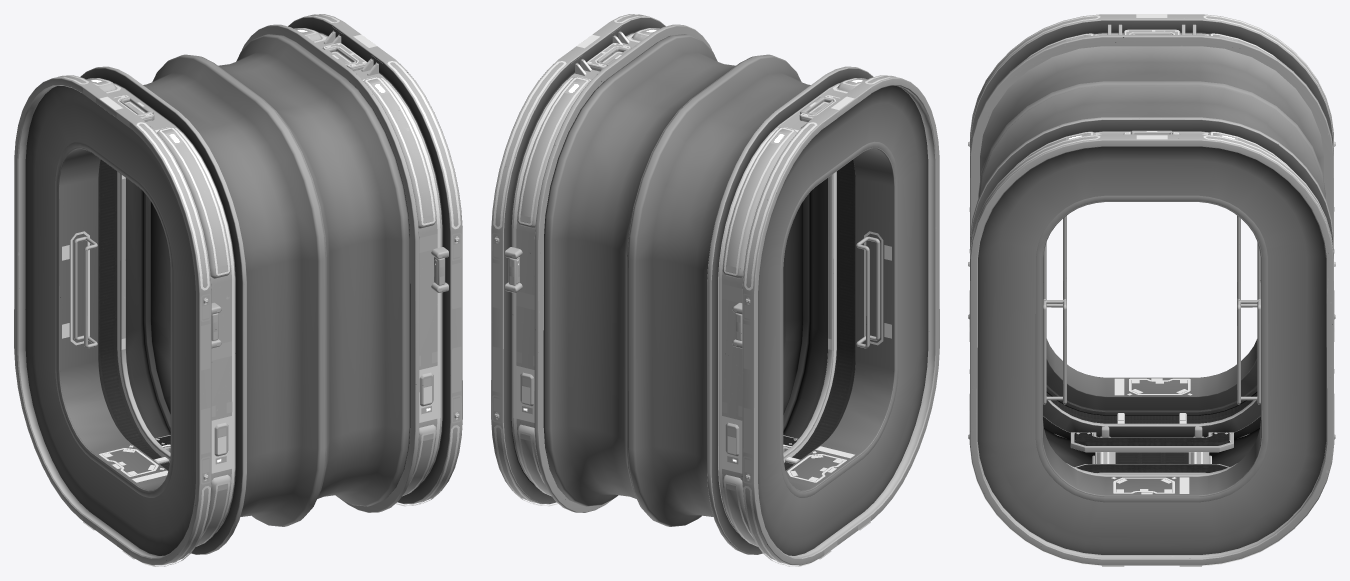
The model's file is SM_Modular_BridgeConnector_3_Merged.fbx.
3 views of the same model, side by side, from view 1: azimuth 30°, elevation 25°; view 2: azimuth 150°, elevation 25°; view 3: azimuth 270°, elevation 25° (orthographic). The views are drawn at different scales.
Visible parts, largest first — view 1: SM_Modular_BridgeConnector_3_Merged_LOD0; view 2: SM_Modular_BridgeConnector_3_Merged_LOD0; view 3: SM_Modular_BridgeConnector_3_Merged_LOD0.
Boxes of the visible parts, bbox=[...] form: SM_Modular_BridgeConnector_3_Merged_LOD0: bbox=[14, 14, 462, 566]; SM_Modular_BridgeConnector_3_Merged_LOD0: bbox=[491, 14, 939, 566]; SM_Modular_BridgeConnector_3_Merged_LOD0: bbox=[968, 14, 1335, 566].
Bounding box in the file's own units: 282 × 347 × 446.
